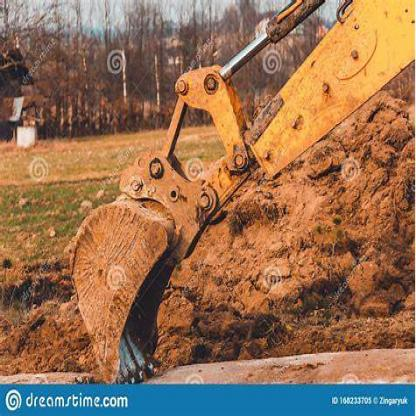excavator: (62, 8, 415, 382)
